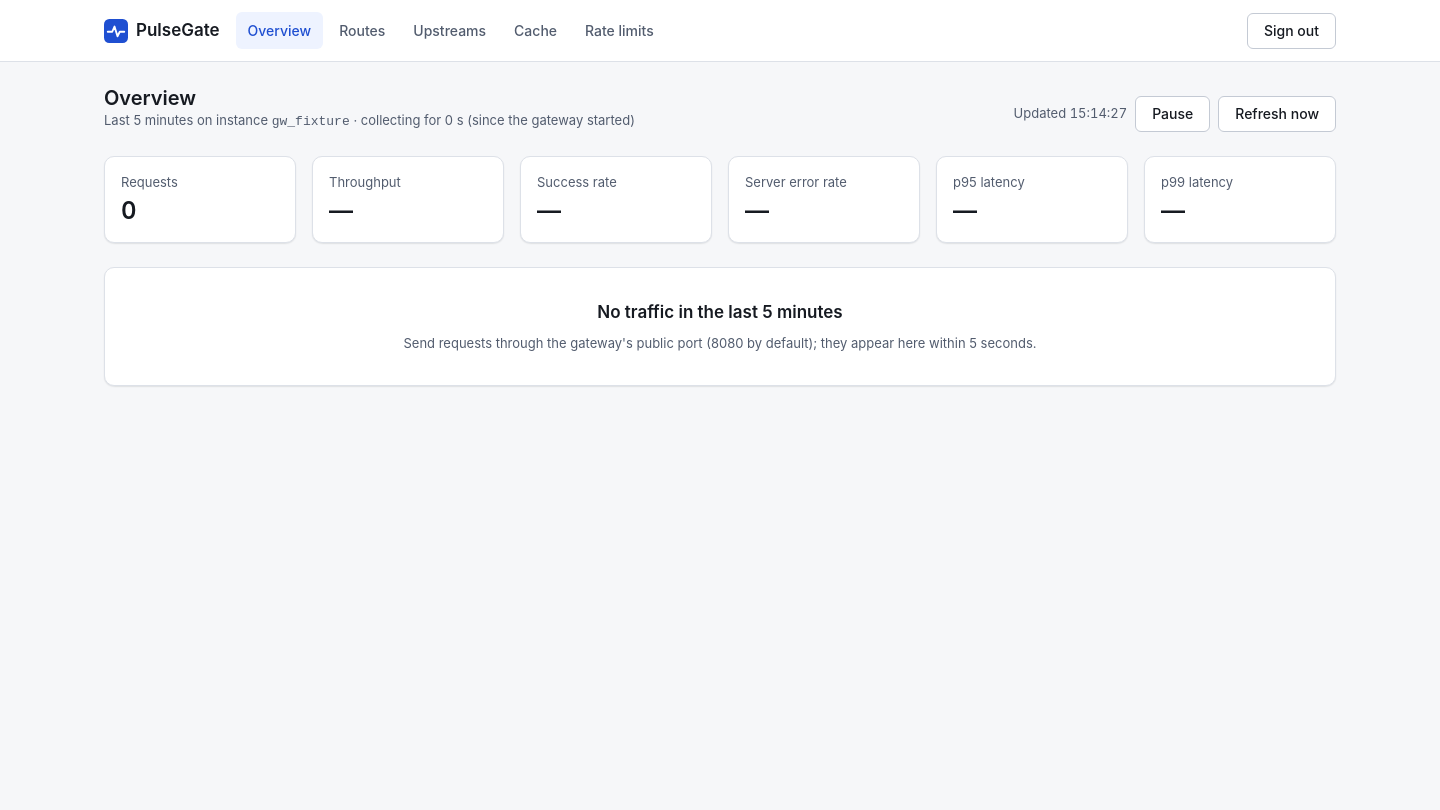
app shell › signs out on request
Click the button "Sign out" at coordinates (1292, 30), box top-left (1247, 12), bottom-right (1336, 48)
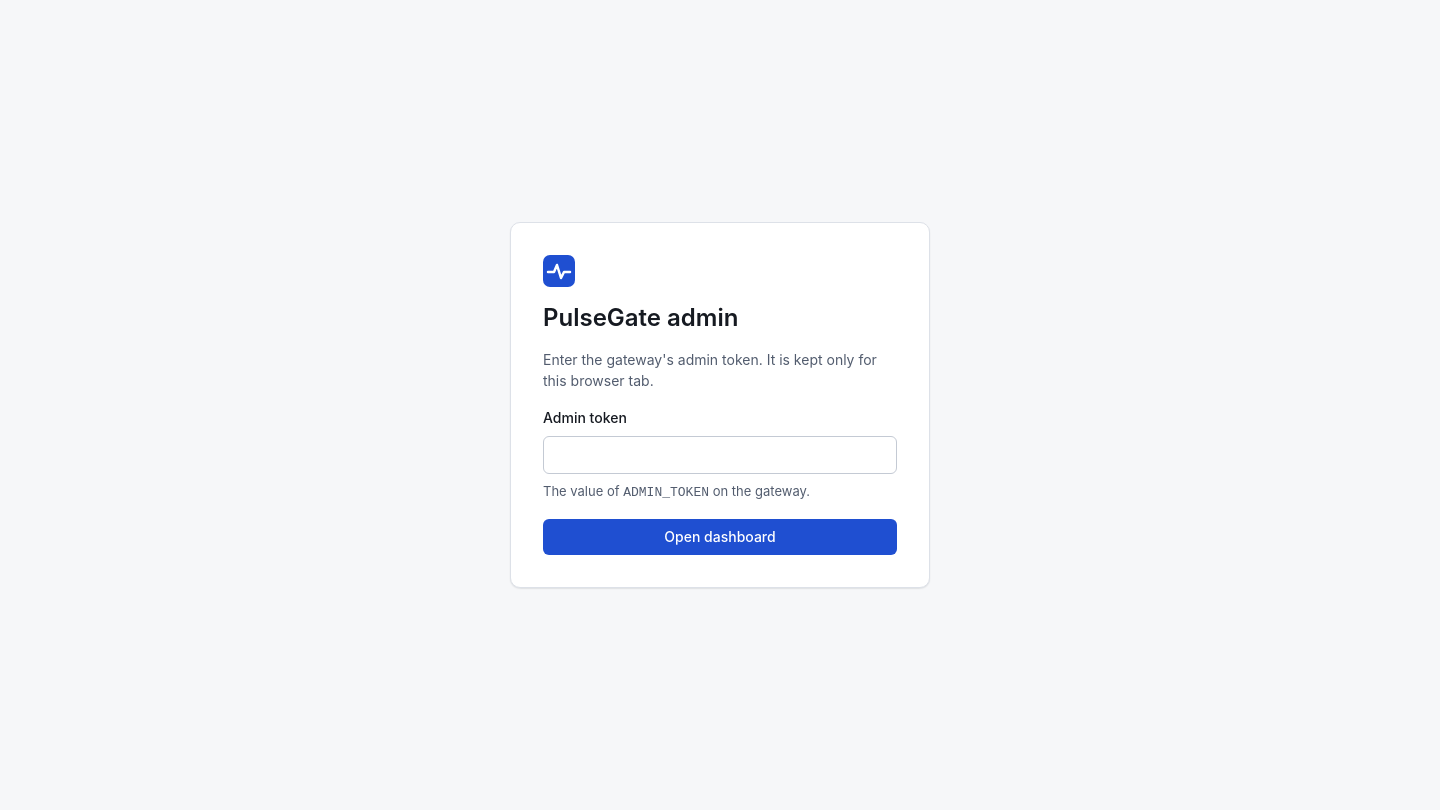
Expected: the password field labelled "Admin token" is shown, top-left (543, 436), bottom-right (897, 474)
